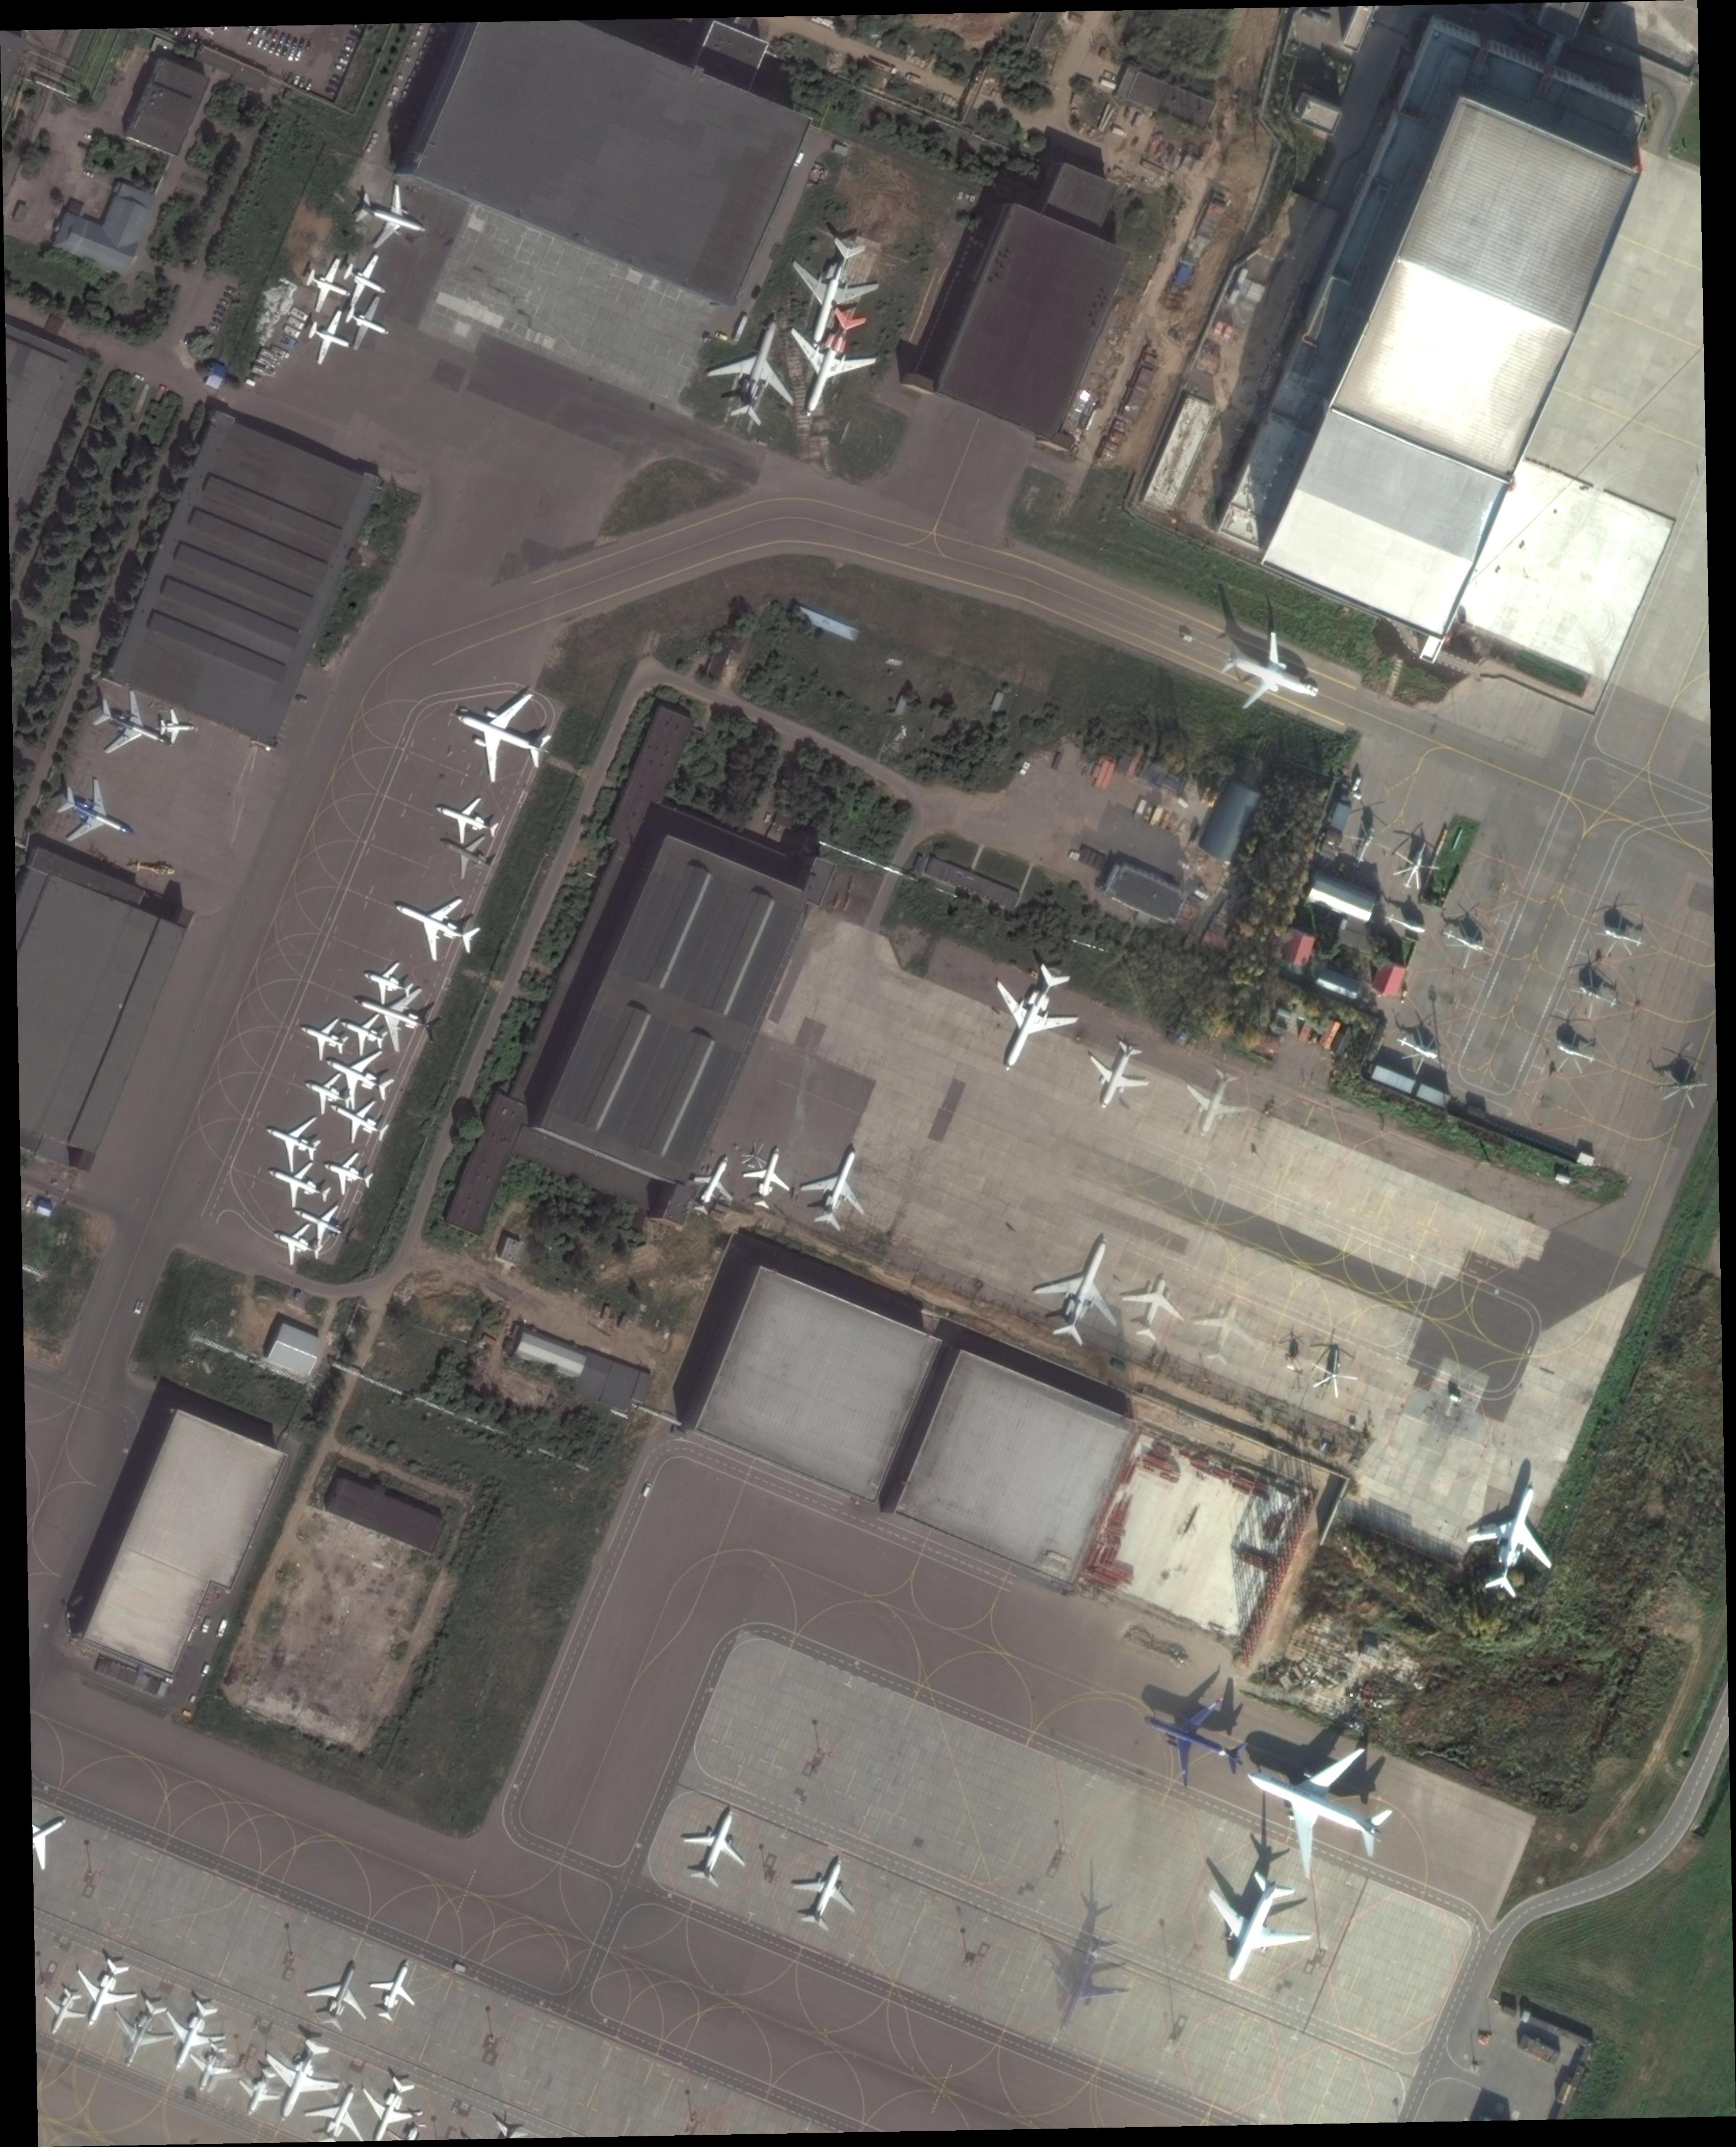plane: (1219, 1711, 1412, 1897), (1180, 1856, 1327, 2004), (965, 948, 1095, 1089), (1125, 1674, 1261, 1805), (765, 294, 891, 429), (1020, 1221, 1146, 1355), (1453, 1470, 1577, 1605), (436, 671, 565, 797), (771, 229, 889, 360), (1020, 1920, 1143, 2046), (698, 303, 815, 432), (1208, 616, 1332, 733), (243, 2025, 351, 2135), (381, 875, 489, 974), (340, 967, 450, 1065), (790, 1134, 887, 1236), (46, 769, 149, 864), (81, 680, 181, 774), (673, 1796, 762, 1895), (345, 174, 438, 266), (783, 1844, 873, 1938), (57, 1949, 147, 2039), (94, 1989, 182, 2080), (298, 1950, 384, 2041), (1171, 1058, 1258, 1148), (149, 1991, 234, 2083), (1182, 1286, 1268, 1375), (1073, 1031, 1159, 1121), (314, 1033, 402, 1118), (1111, 1263, 1197, 1348), (255, 1098, 329, 1178), (257, 1146, 337, 1219), (425, 783, 507, 854), (361, 1947, 430, 2028), (733, 1137, 802, 1215), (321, 1084, 397, 1153), (285, 1189, 361, 1256), (1383, 1017, 1456, 1086), (296, 248, 360, 322), (682, 1146, 744, 1222), (338, 287, 400, 358), (432, 822, 500, 886), (335, 244, 395, 315), (301, 303, 360, 372), (298, 1063, 361, 1125), (354, 951, 420, 1011), (333, 1001, 395, 1063), (315, 1143, 379, 1203), (229, 2060, 289, 2124), (292, 1006, 356, 1066), (262, 1215, 328, 1274), (181, 2035, 239, 2097), (34, 1982, 92, 2042), (154, 709, 197, 746)
